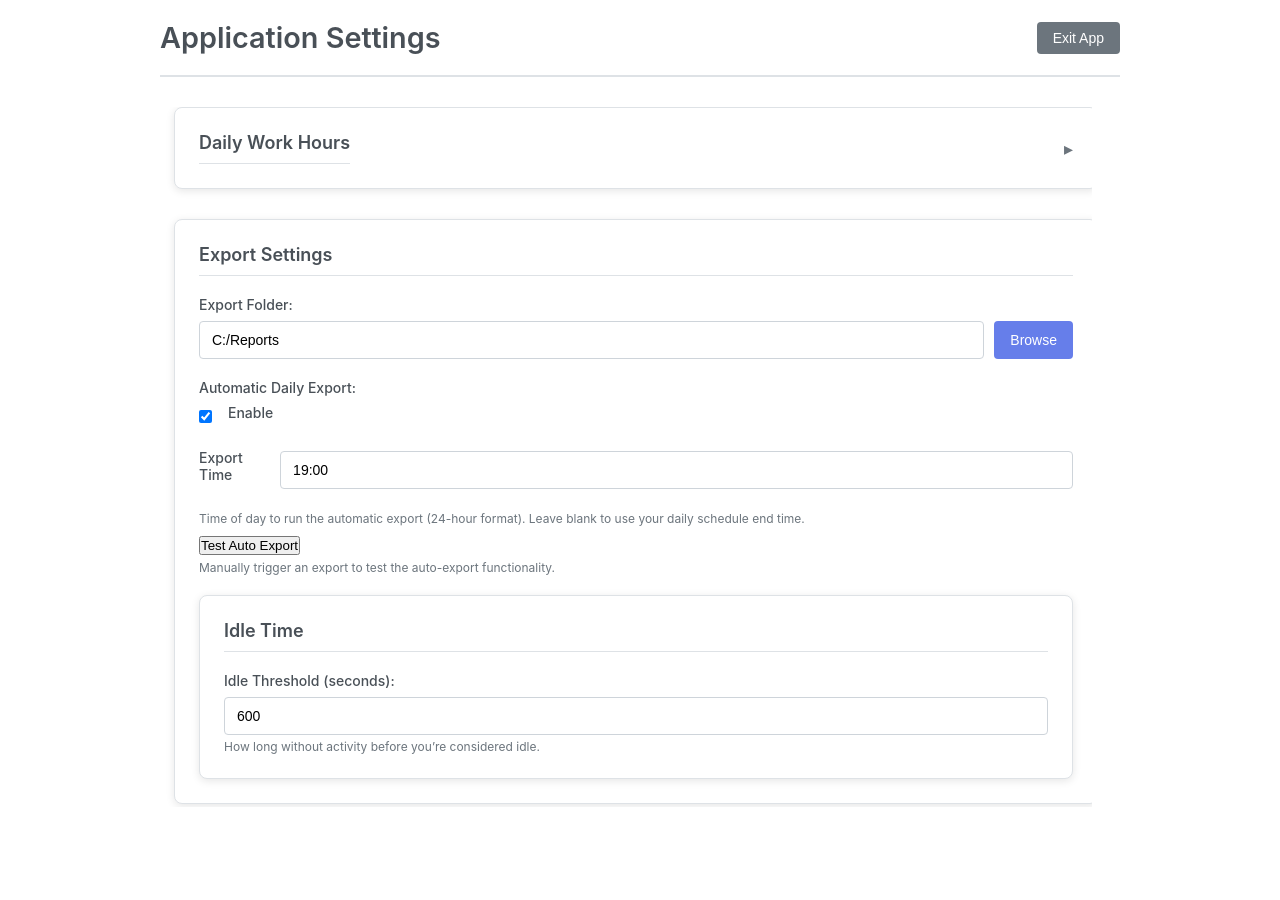
Test: shows a non-blocking message when scheduler reconfigure fails (RED)
# Trigger reconfigure failure via time change
Replace the text in the field labelled "Export Time" with "06:00": (677, 470) [280,451,1073,489]
Wait 600 ms
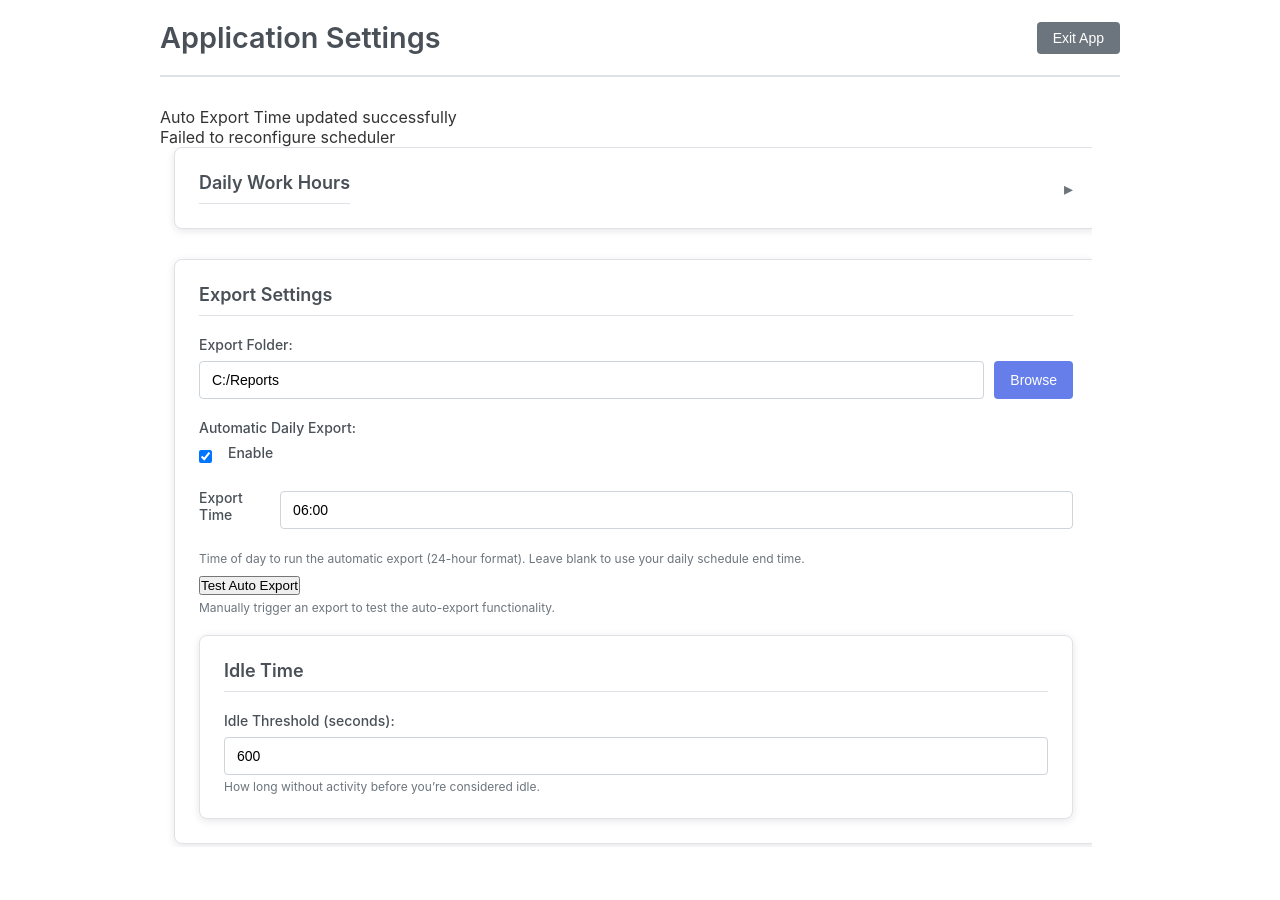
Check: the text "Failed to reconfigure scheduler" is shown, box [160,127,395,147]
